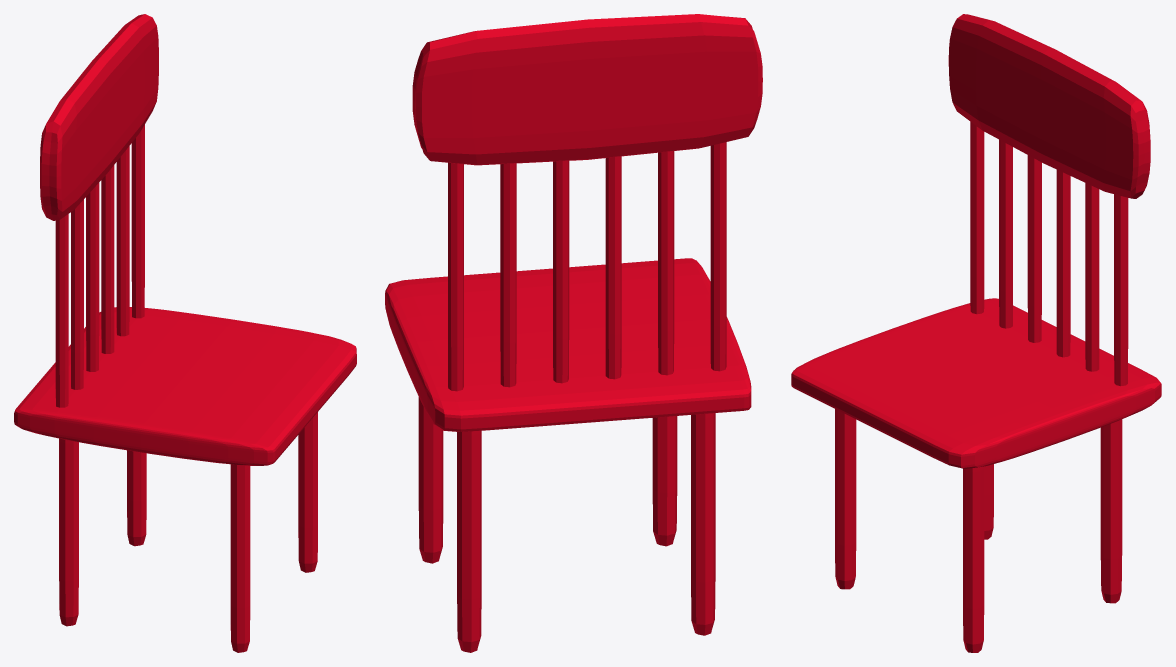
3 views of the same model, side by side, from view 1: azimuth 30°, elevation 25°; view 2: azimuth 150°, elevation 25°; view 3: azimuth 270°, elevation 25° (orthographic). The views are drawn at different scales.
Parts seen in each view (by area): view 1: Cube; view 2: Cube; view 3: Cube.
Boxes of the visible parts, x1=… form: Cube: x1=14, y1=14, x2=356, y2=652; Cube: x1=385, y1=14, x2=762, y2=652; Cube: x1=791, y1=14, x2=1161, y2=652.
Size of the model in its own units: 0.7561 by 1.18 by 0.7588.
